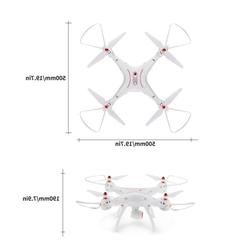drone: (80, 21, 194, 133), (75, 170, 198, 232)
